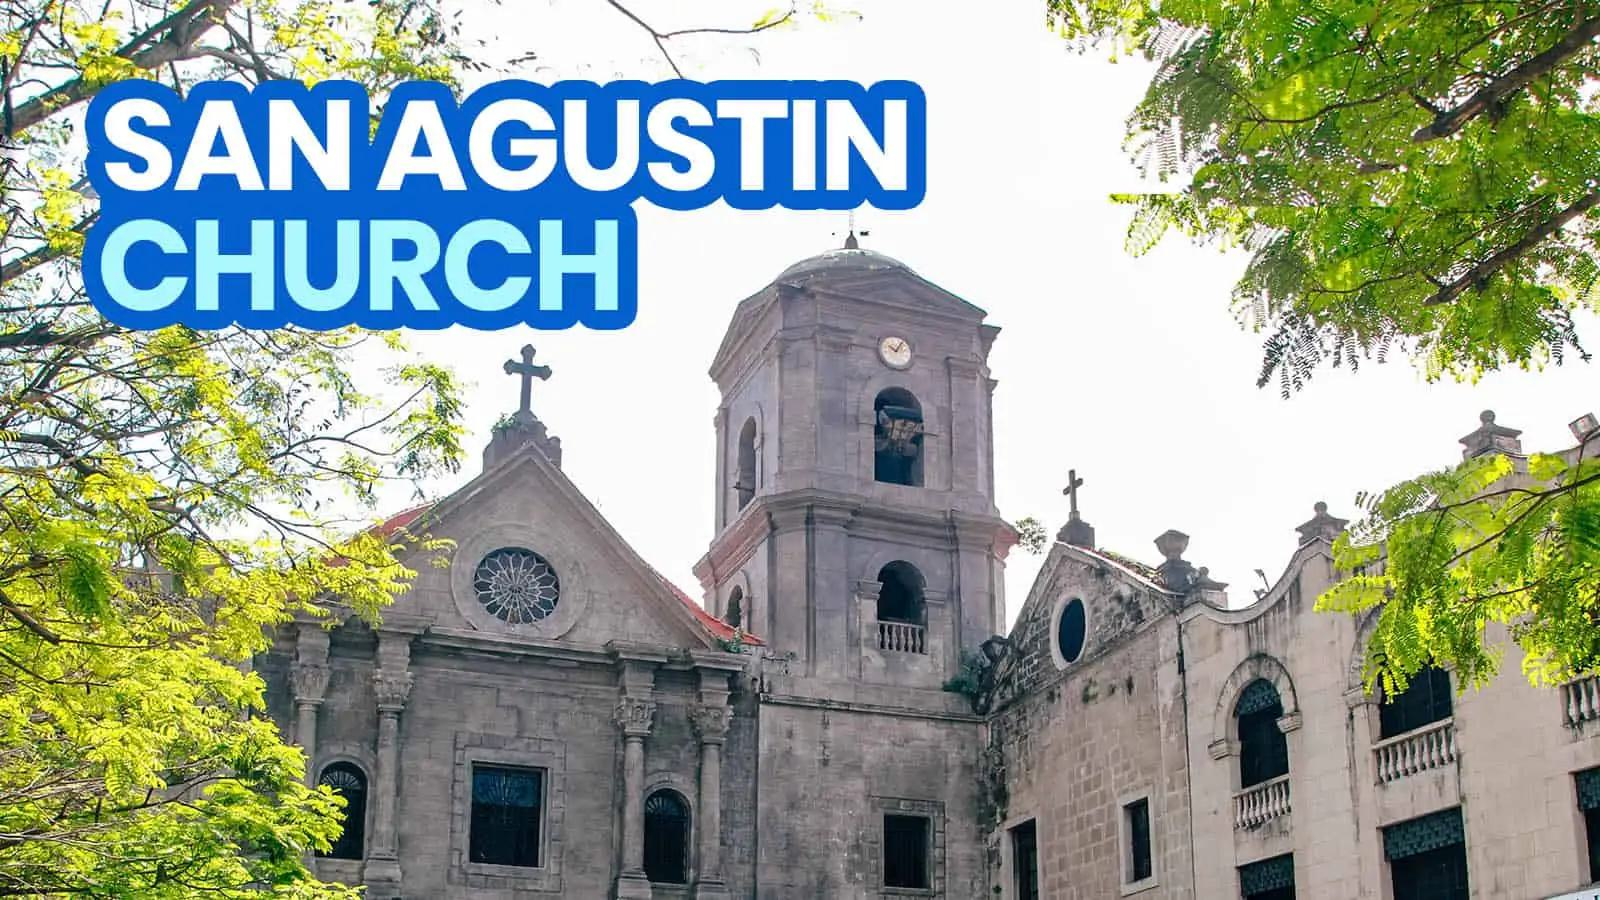Environmental Damage: (943, 643, 995, 708), (973, 762, 1015, 836), (1005, 513, 1049, 559)
San Agustin Church: (240, 215, 1004, 900)
